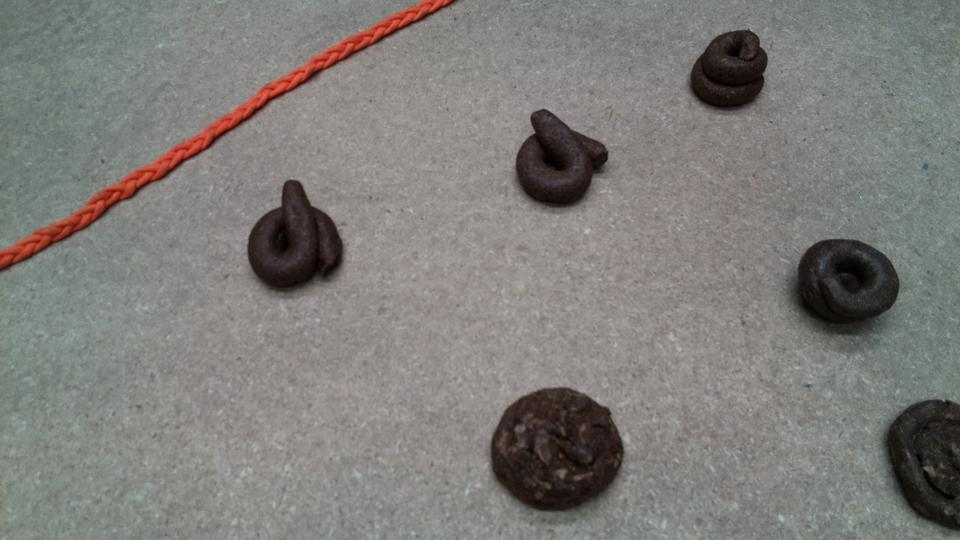poop: (486, 384, 627, 516), (243, 176, 347, 294), (508, 107, 612, 209), (884, 394, 960, 529), (793, 237, 902, 329), (688, 26, 771, 111)
rope: (1, 1, 435, 263)
